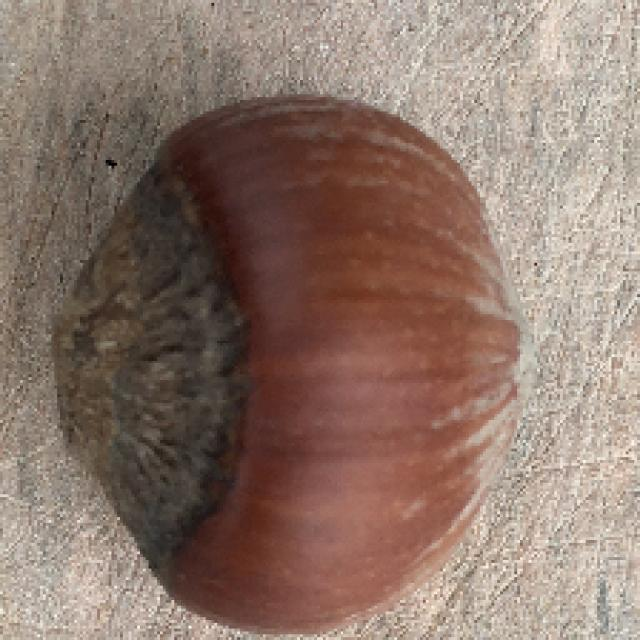qualityHazelnut: (46, 95, 530, 634)
